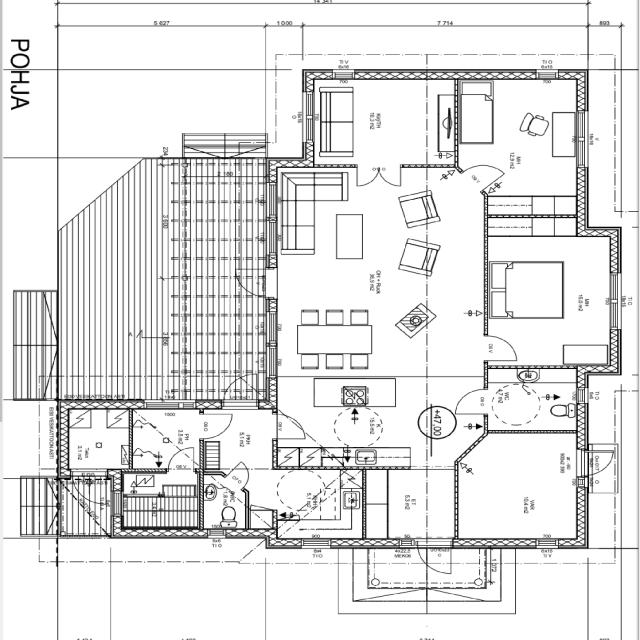door: (200, 406, 276, 469), (479, 329, 523, 364), (461, 161, 508, 192), (367, 161, 408, 189), (223, 376, 258, 406), (271, 411, 307, 440), (199, 410, 235, 439), (421, 545, 452, 578), (353, 162, 388, 190), (454, 388, 489, 415), (236, 271, 269, 298), (166, 446, 197, 470), (229, 460, 251, 481)
window: (604, 269, 628, 319), (298, 88, 321, 133), (573, 107, 595, 142), (399, 316, 425, 340), (296, 536, 336, 551), (138, 399, 197, 409), (533, 542, 559, 559), (207, 524, 231, 540)
zone: (280, 175, 436, 384), (486, 227, 620, 366), (452, 76, 584, 204), (453, 430, 588, 548), (306, 77, 459, 168), (268, 377, 426, 465), (354, 466, 454, 546), (248, 467, 350, 533), (484, 368, 581, 432), (56, 402, 133, 473), (120, 467, 197, 532), (201, 406, 276, 468), (130, 406, 202, 468), (200, 470, 246, 531)
